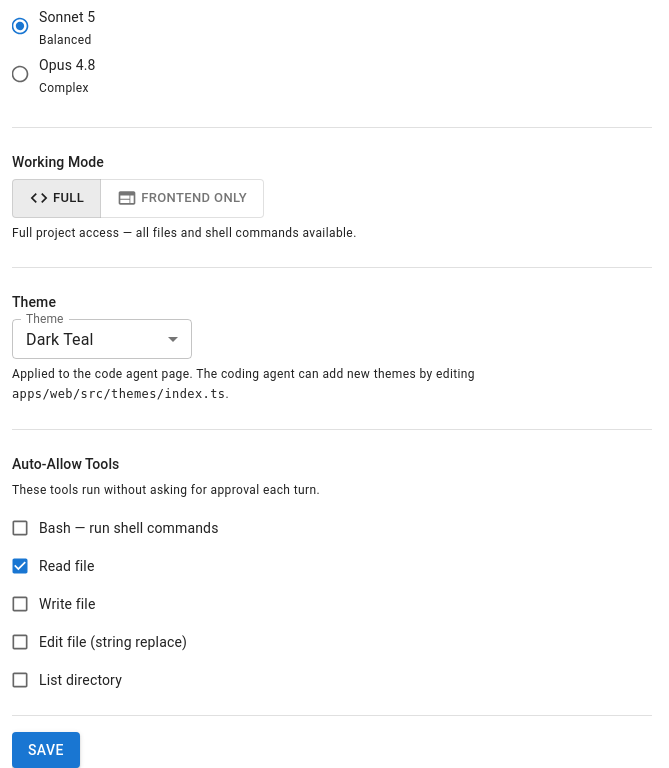
Test: AgentConfigEditor › saves the draft config and shows a success message
This screenshot has width=669, height=768.
(page scrolled)
Click the button "Save".
click(46, 750)  # box [12,732,80,767]
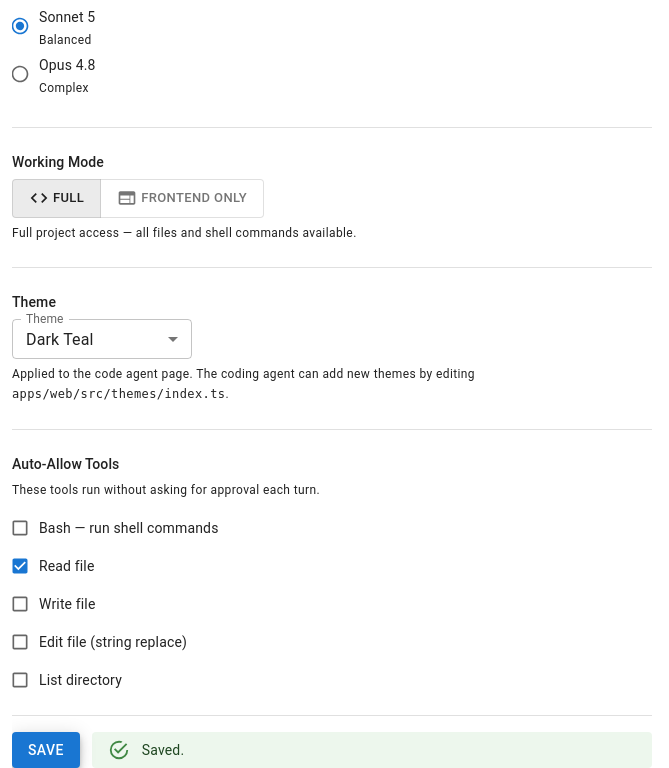
Check: the text "Saved." is shown, box [142,742,184,758]
